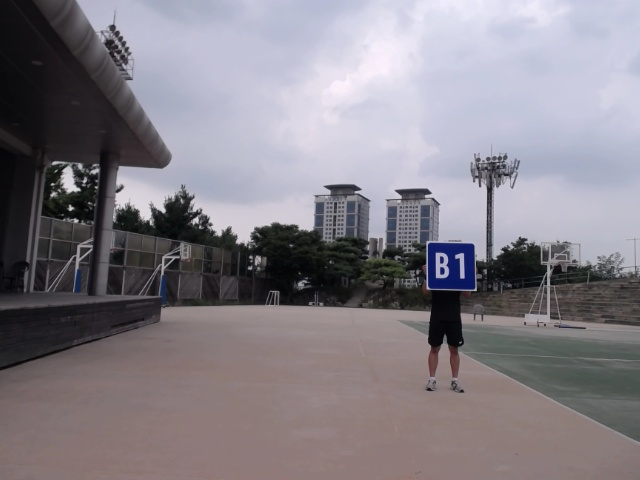delivery_b1: (427, 241, 477, 291)
